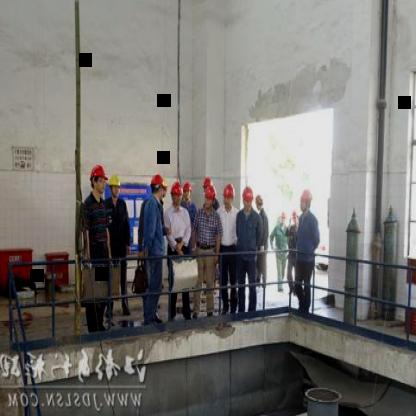helmet: (89, 160, 107, 200), (149, 170, 167, 206), (299, 186, 315, 216), (203, 185, 219, 213), (240, 186, 255, 214), (109, 170, 123, 200), (222, 182, 236, 210), (170, 178, 182, 206), (182, 180, 192, 202), (254, 193, 264, 212)
